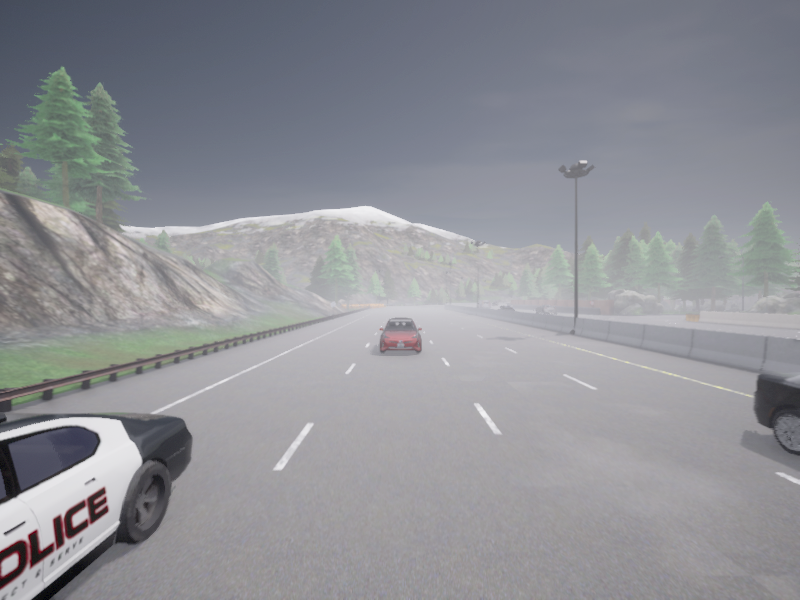vehicle: (0, 412, 192, 599), (752, 371, 799, 455), (379, 318, 421, 352), (535, 305, 556, 314), (478, 300, 490, 308), (498, 305, 512, 310), (493, 301, 498, 306), (508, 305, 513, 310)
